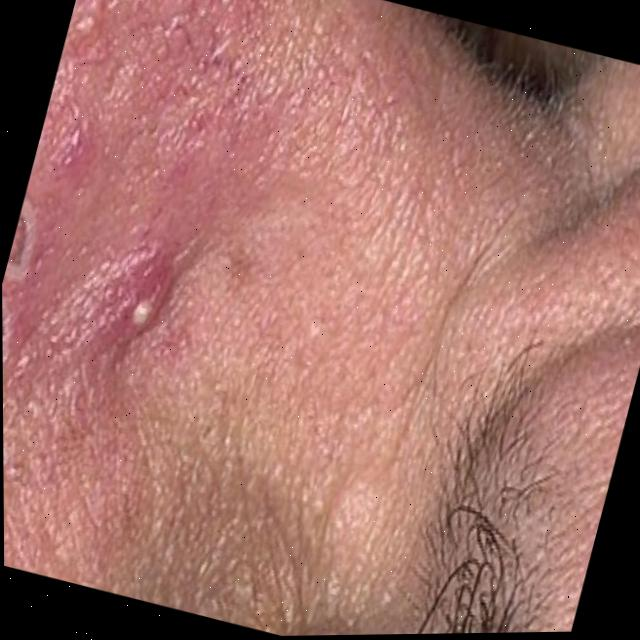Rosacea: (93, 242, 196, 356)
